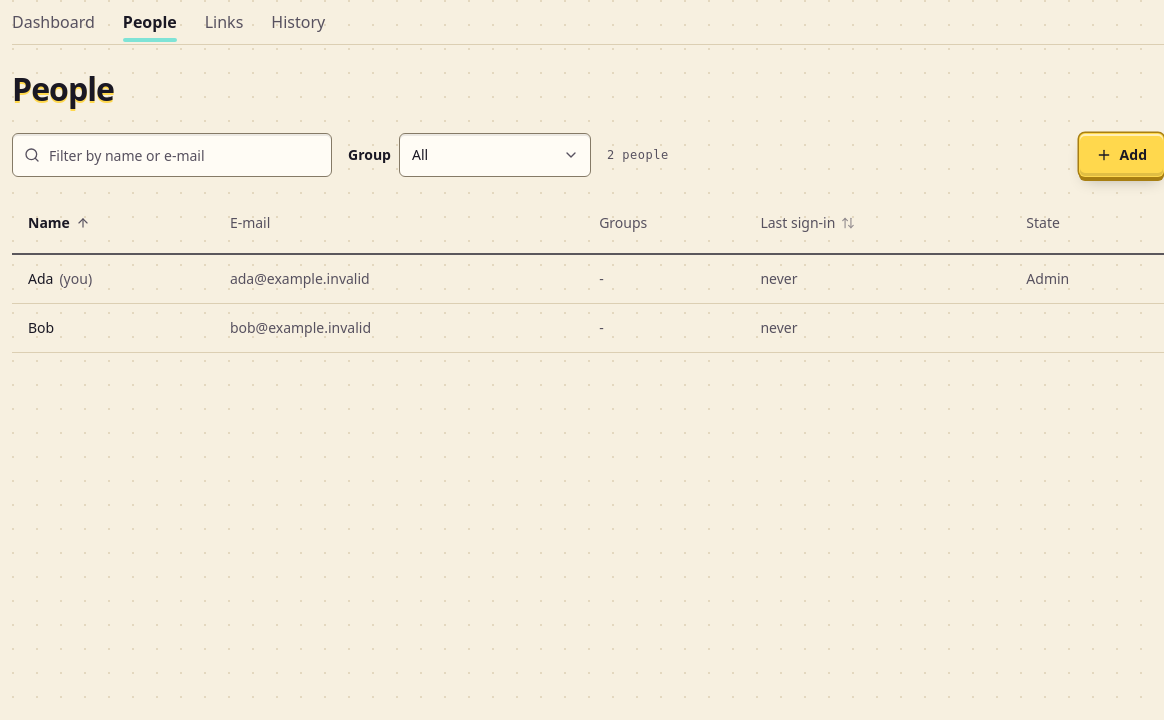
it: AddPeople › opens from the list's Add link on the type question
This screenshot has width=1164, height=720.
Expected: the table is shown, x1=12 y1=193 x2=1163 y2=353
Click the link "Add": (1121, 155) x1=1079 y1=133 x2=1163 y2=177
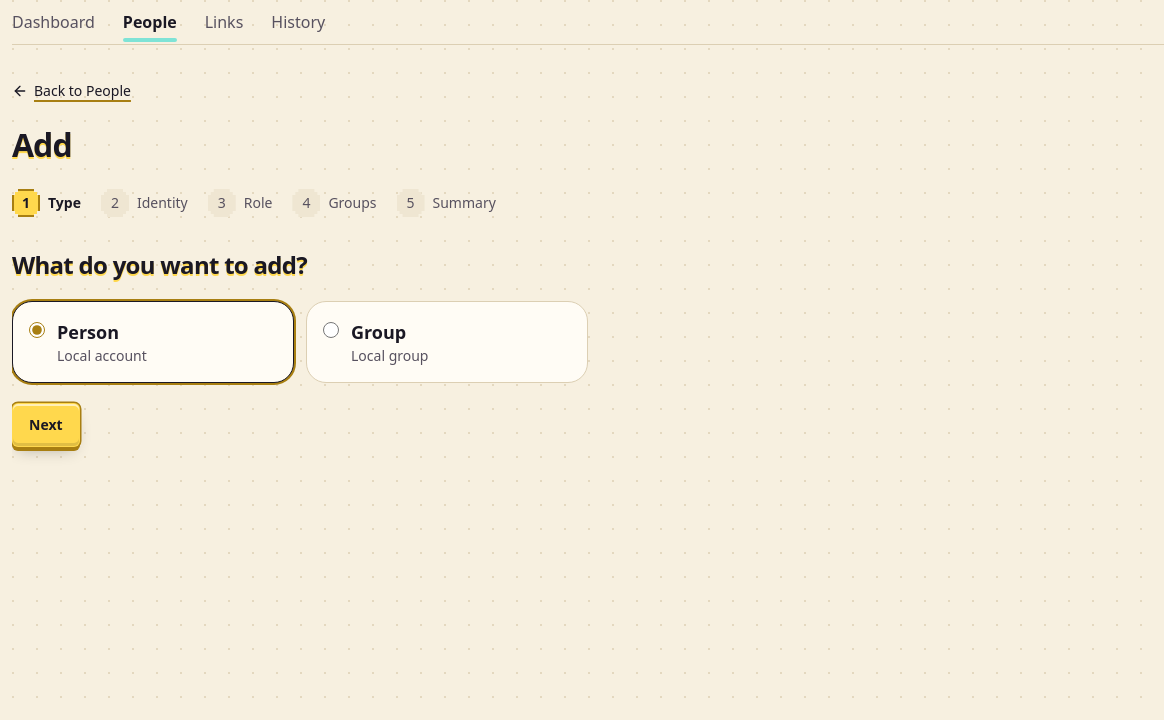
Expected: the heading "What do you want to add?" is shown, x1=12 y1=248 x2=307 y2=281
Expected: the radio button labelled "Person Local account" is checked, x1=29 y1=322 x2=45 y2=338
